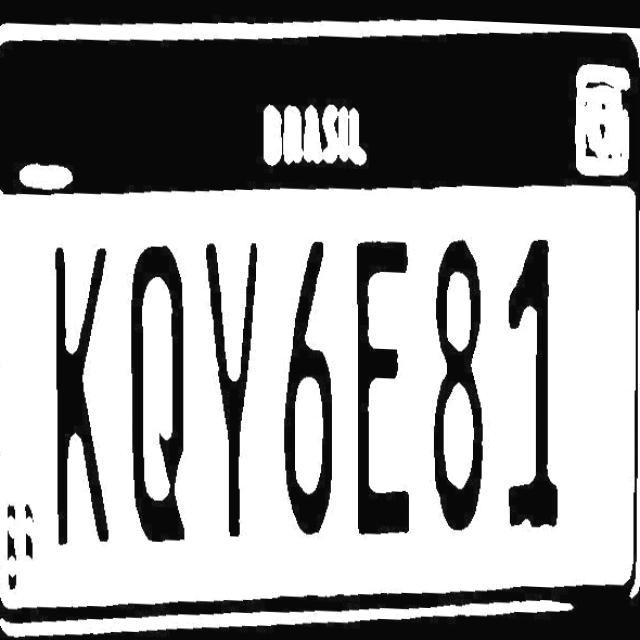1: (498, 227, 586, 529)
6: (275, 226, 351, 535)
8: (425, 232, 500, 534)
e: (346, 225, 424, 541)
k: (40, 236, 126, 555)
q: (128, 235, 192, 558)
y: (195, 230, 273, 547)
